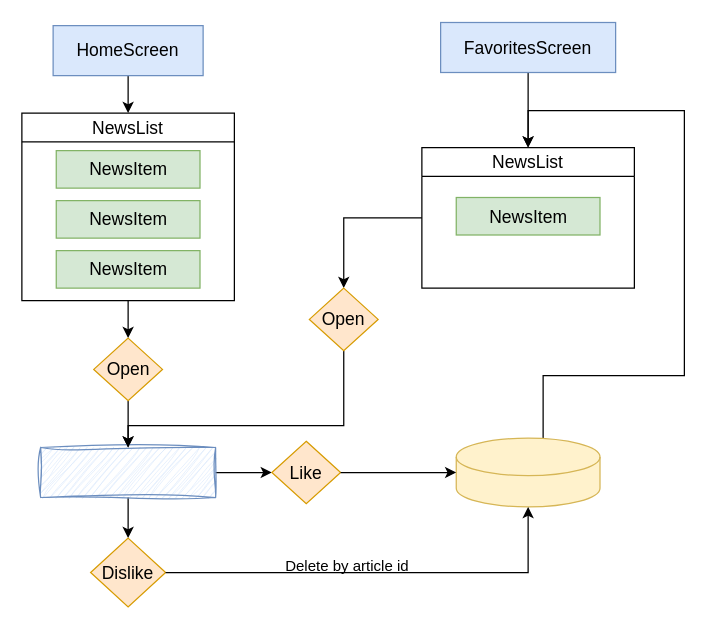
Some shapes in this 716 by 629 pixel diagram are drawn without their labels. The shapes that lost their labels are listed below. From the top down, each one's box as (x1, y1, x2, y2) in pixels, then its label:
(39, 446, 216, 498): NewsDetailScreen
(455, 437, 600, 507): Redux
